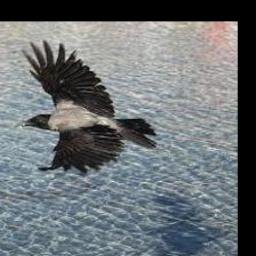Crow: (18, 39, 158, 172)
